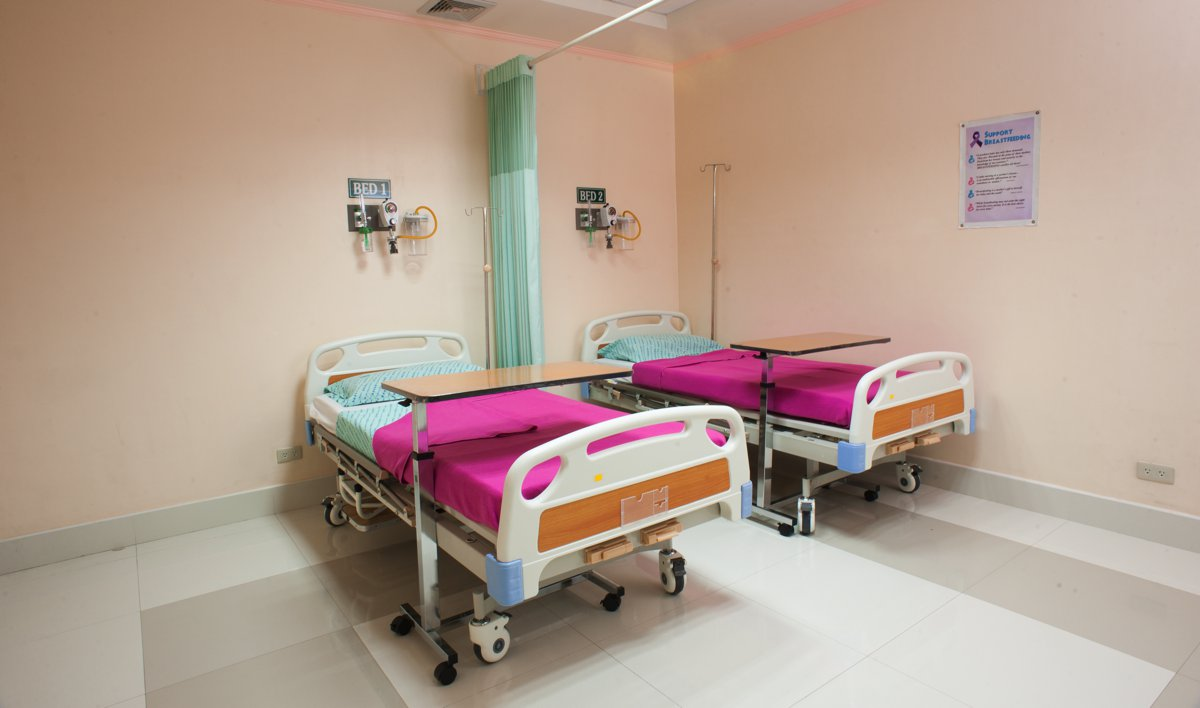bedside table: (393, 348, 621, 431), (725, 319, 908, 361)
hospital bed: (306, 343, 758, 526), (599, 294, 1001, 461)
